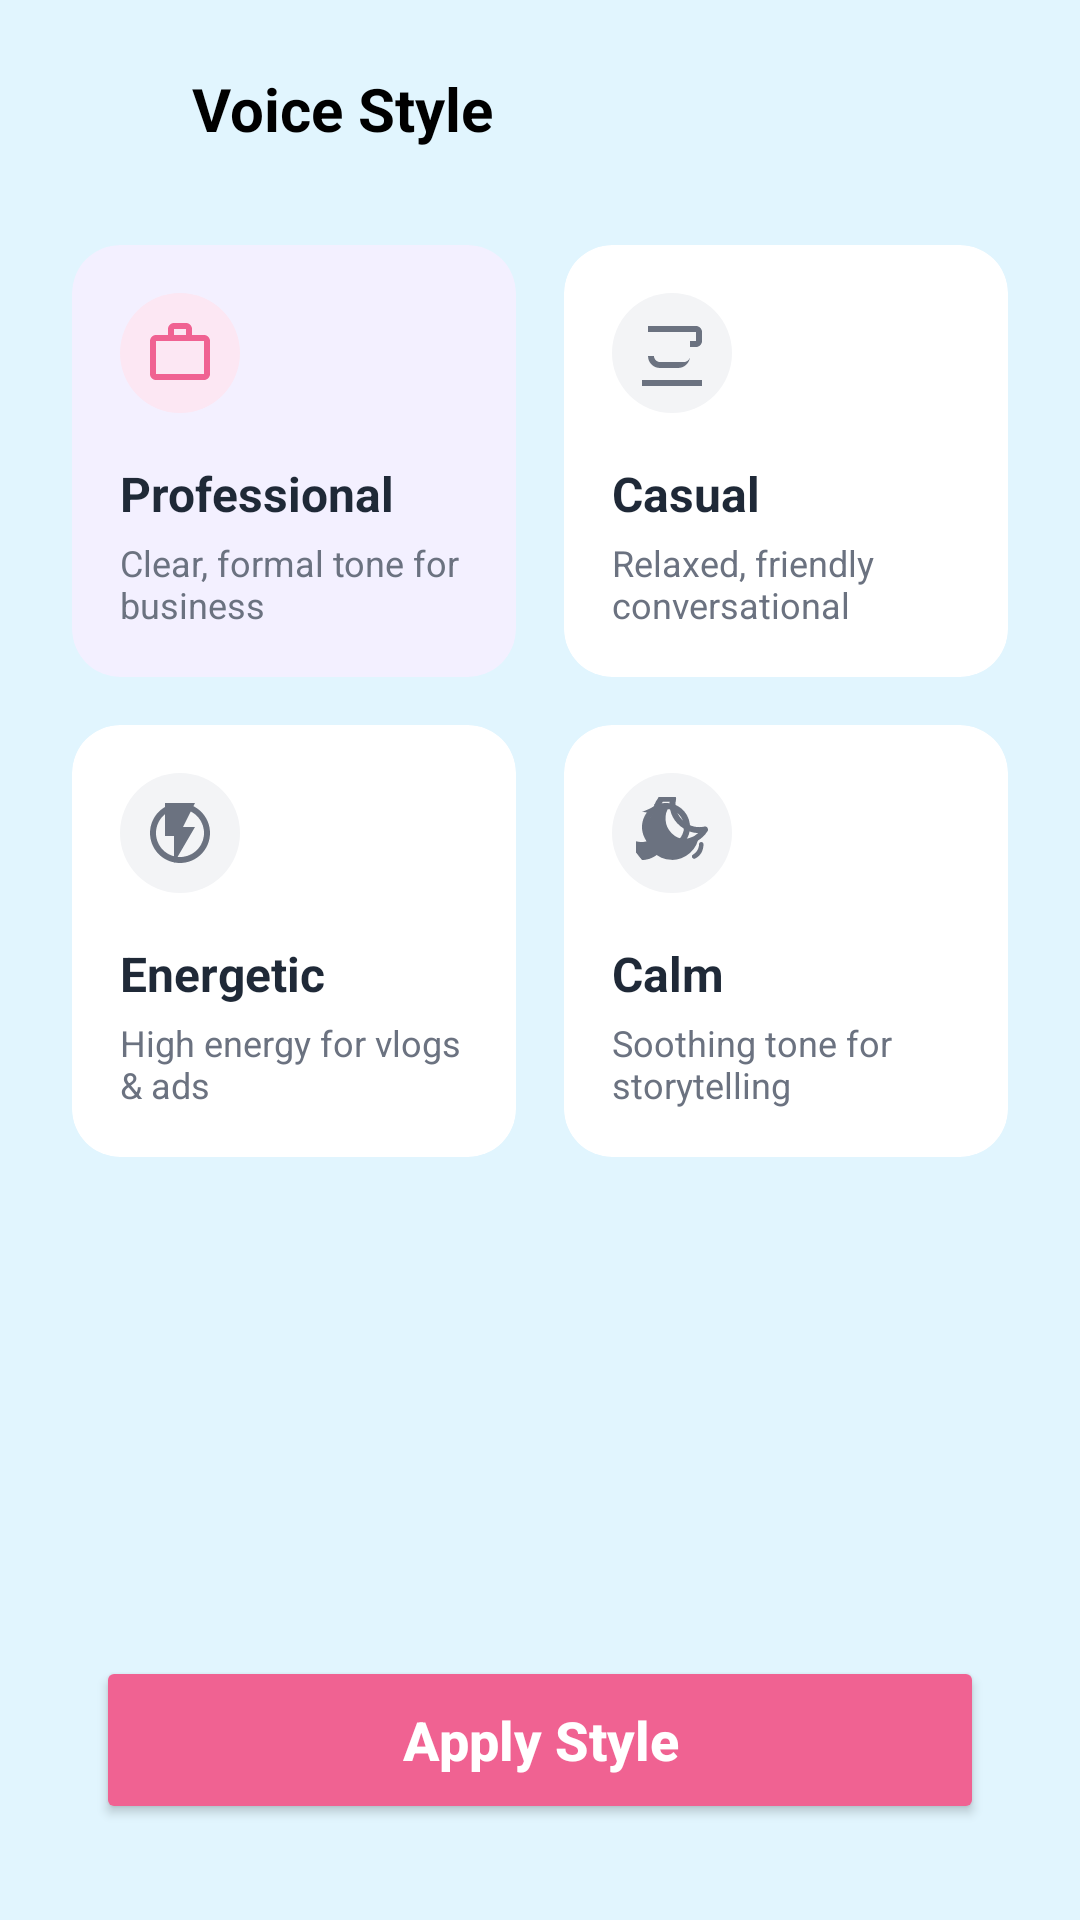

Locate icon controls on the screen. Image size 1080 x 1920, boxes as (x1, y1, x2, y2).
briefcase: (120, 293, 240, 413)
coffee: (612, 293, 732, 413)
feature bolt: (150, 803, 210, 863)
